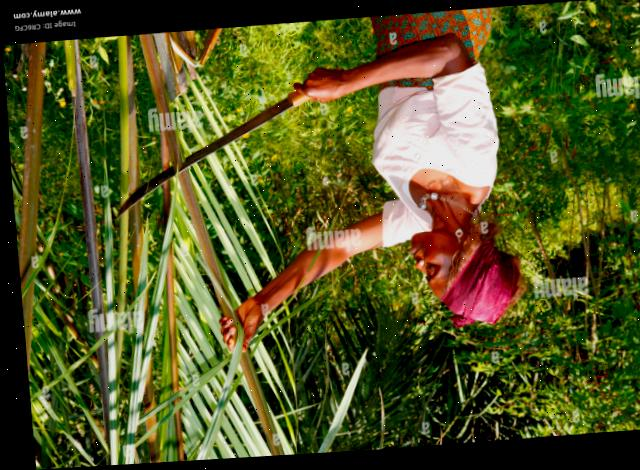long knife: (88, 70, 330, 227)
